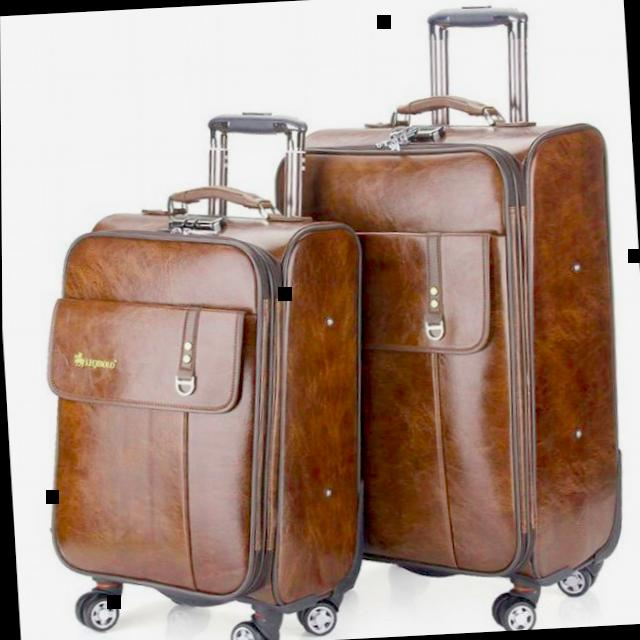luggage: (266, 106, 635, 601), (25, 189, 389, 629)
